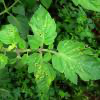Tomato leaf bacterial spot: (50, 39, 99, 85), (26, 3, 60, 50), (26, 52, 60, 97), (0, 23, 20, 47)
